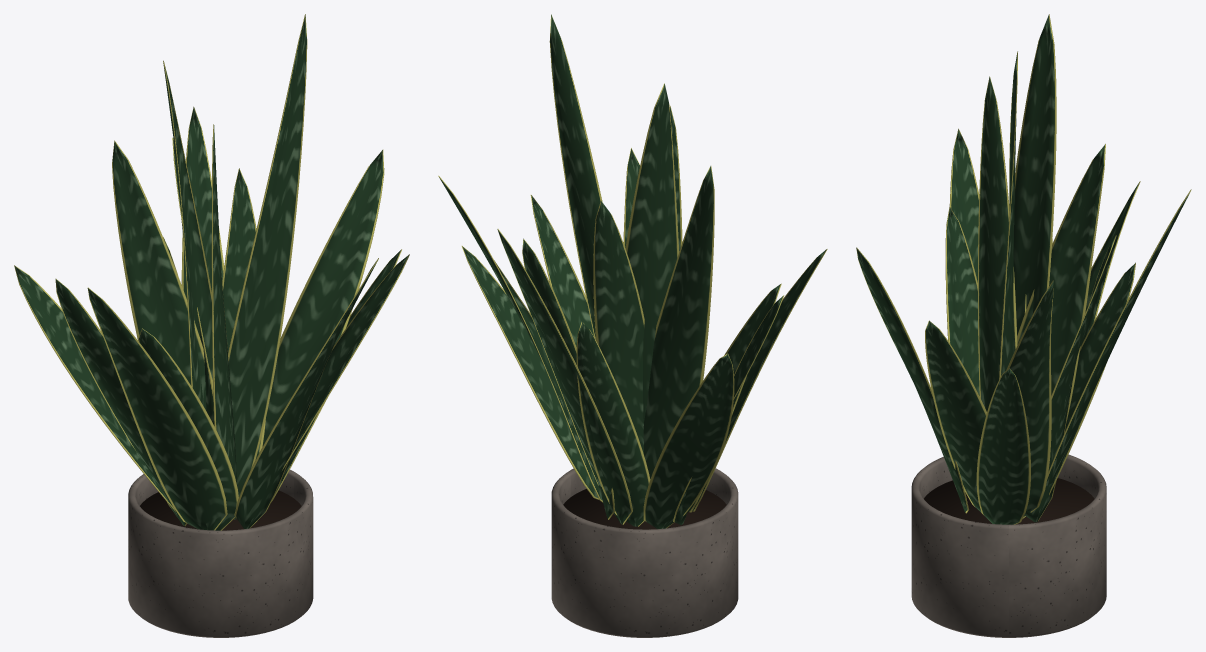
File: floor-plant.glb
3 renders of one model, left to right at view 1: azimuth 30°, elevation 25°; view 2: azimuth 150°, elevation 25°; view 3: azimuth 270°, elevation 25°, orthographic. The views are drawn at different scales.
Parts seen in each view (by area): view 1: floor_plant_leaves, floor_plant_pot; view 2: floor_plant_leaves, floor_plant_pot; view 3: floor_plant_leaves, floor_plant_pot.
Part boxes in pixels (box(x1,y1,x2,y2)): floor_plant_leaves: box(14, 14, 409, 530); floor_plant_pot: box(128, 469, 313, 637); floor_plant_leaves: box(438, 14, 827, 528); floor_plant_pot: box(551, 468, 738, 637); floor_plant_leaves: box(856, 14, 1191, 524); floor_plant_pot: box(911, 454, 1106, 637).
Size of the model in its own units: 0.3996 by 0.6292 by 0.3229.
Materials: 3 (2 with a texture image).
